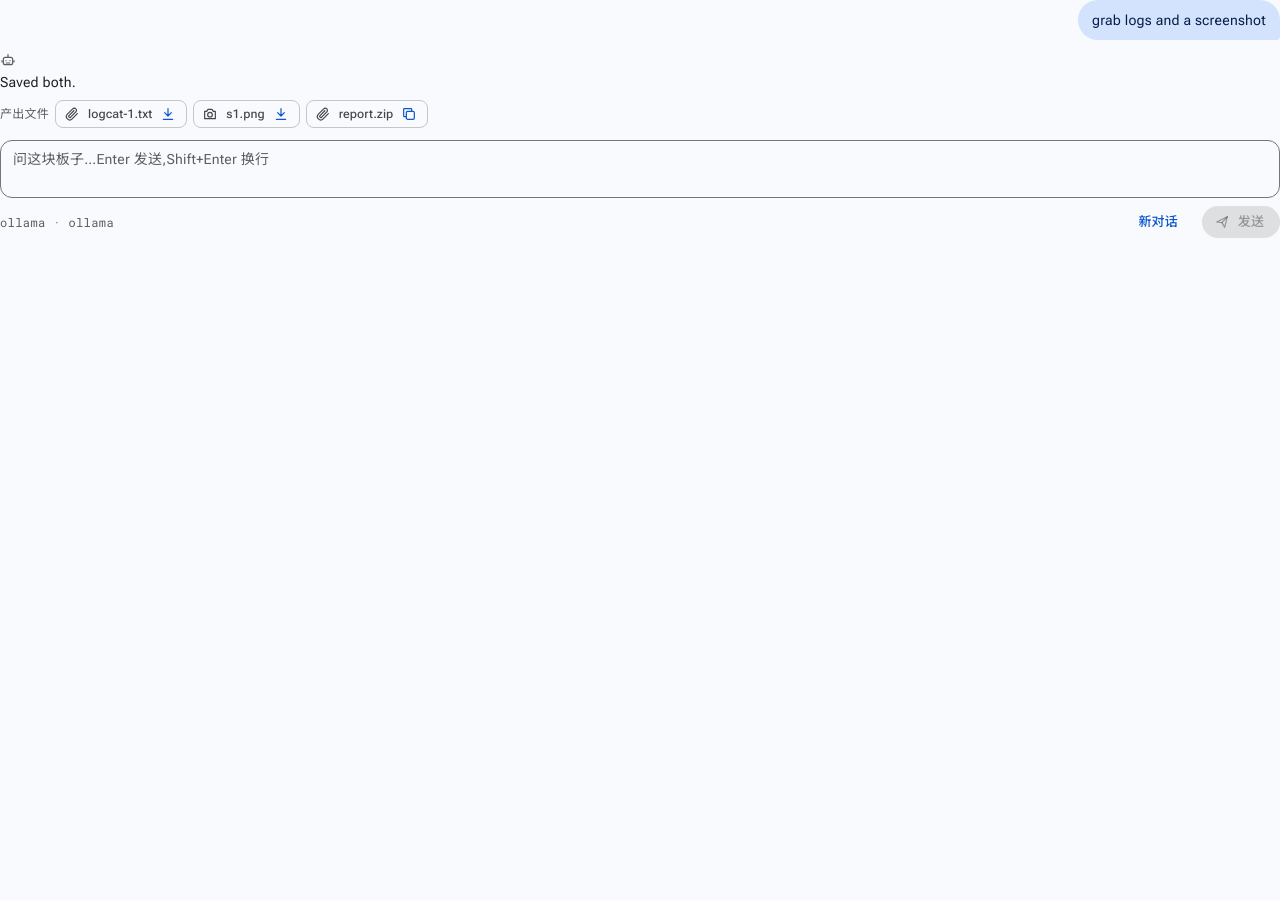
Test: files a turn produced › shows each file; workspace files open or download, others offer their path
The image size is (1280, 900).
Expected: the text "产出文件" is shown, [0, 104, 49, 124]
Click the button named "复制 report.zip 的路径": (409, 114) [401, 106, 417, 122]
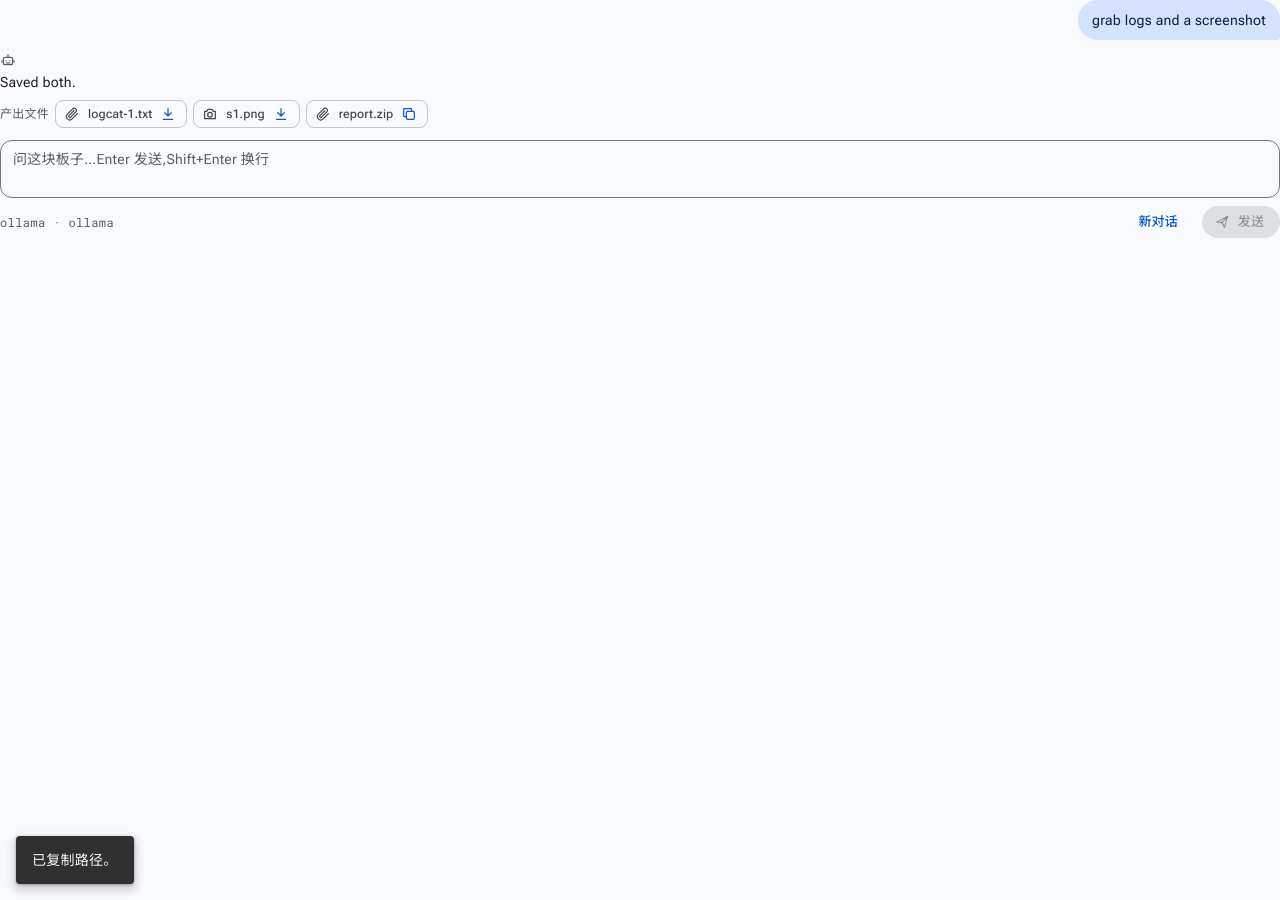
Note: a text file opens in the log dialog
Click the button with aria-label "打开 logcat-1.txt": (120, 114) [88, 105, 152, 123]
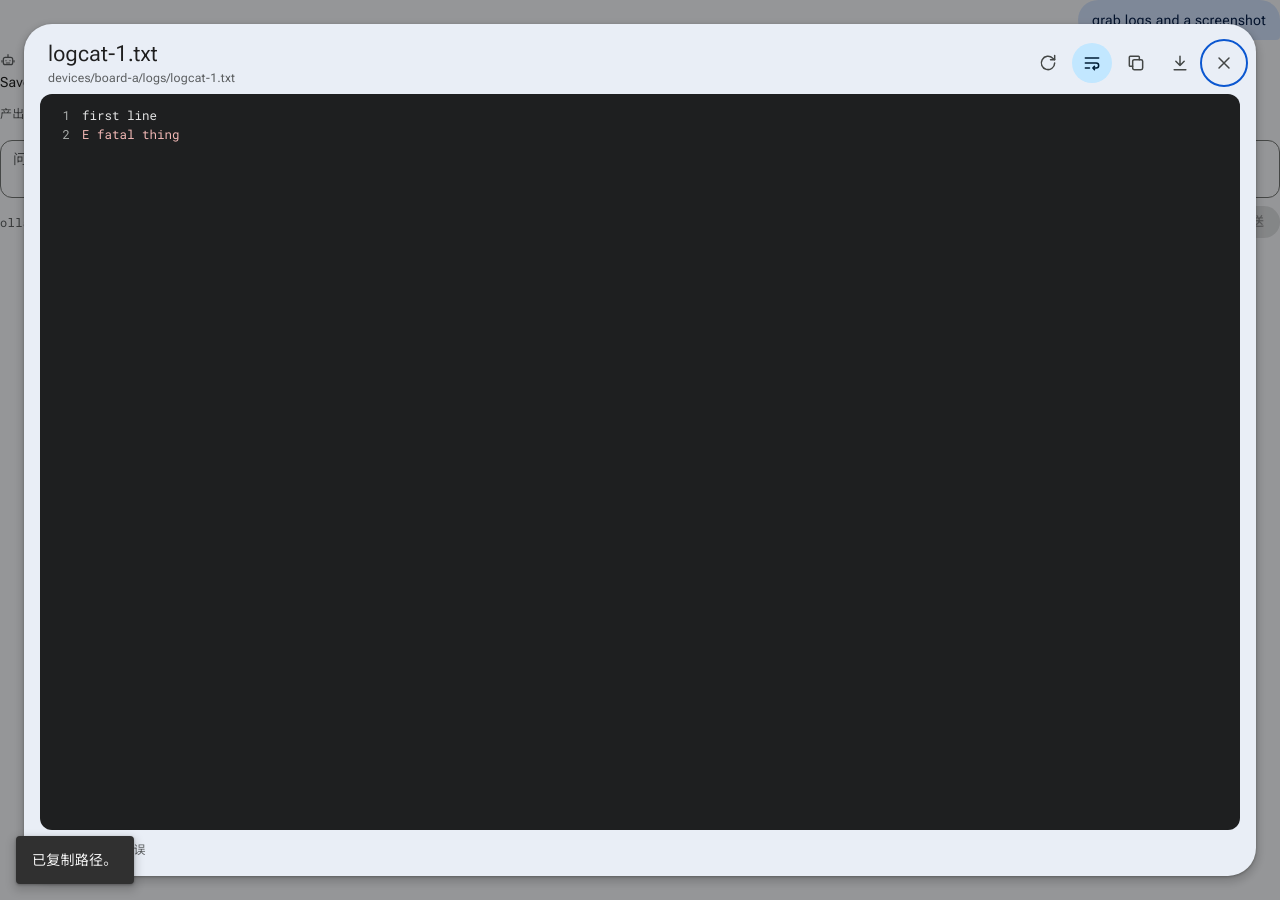
Expected: the text "E fatal thing" is shown, [82, 126, 180, 142]
Expected: the text "devices/board-a/logs/logcat-1.txt" is shown, [48, 71, 235, 85]
